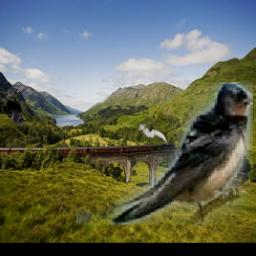Crow: (2, 88, 28, 125)
Swallow: (77, 83, 253, 226)
